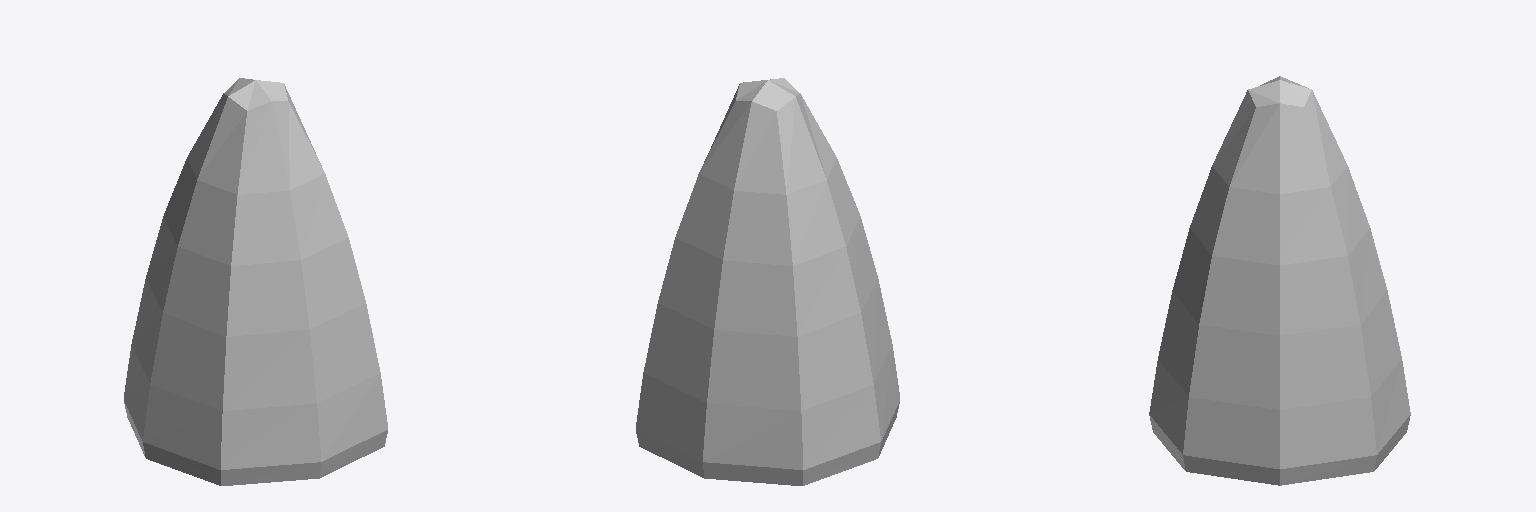
Rendered from candy corn.obj.
3 views of the same model, side by side, from view 1: azimuth 30°, elevation 25°; view 2: azimuth 150°, elevation 25°; view 3: azimuth 270°, elevation 25° (orthographic).
Bounding box in the file's own units: 1.2 × 1.78 × 1.2.